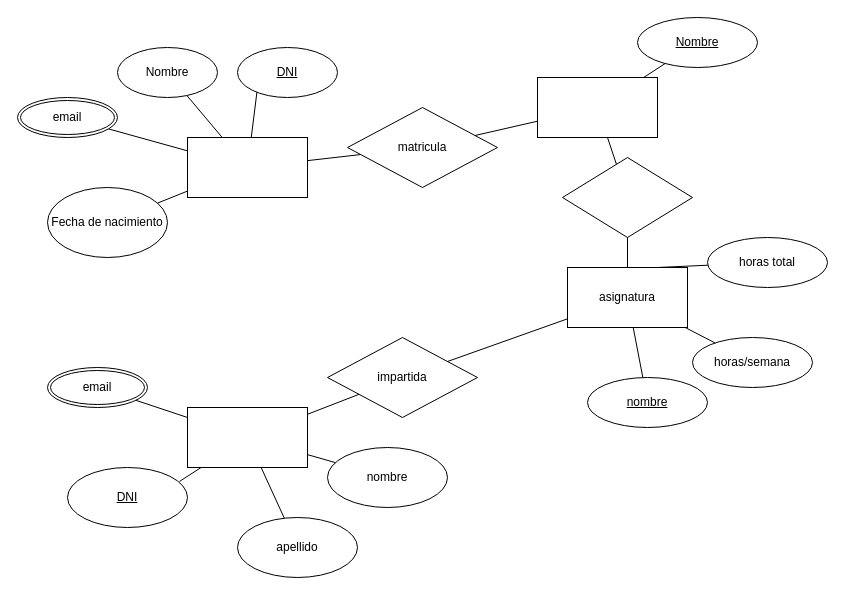
The diagram is 845 pixels wide and 595 high, and some of its shapes have lost their labels. Each missing label, with the centre of its shape:
alumno: the point at 247,167
curso: the point at 597,107
profesor: the point at 247,437
tiene: the point at 627,197
